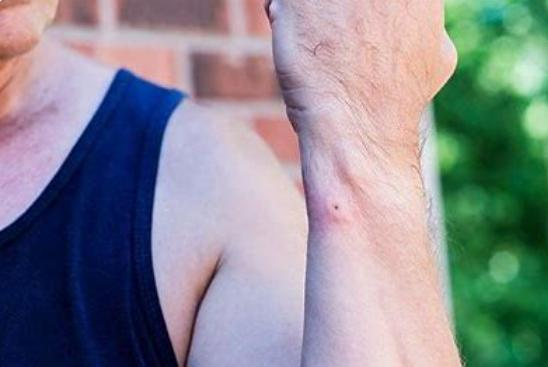Wasp: (319, 178, 354, 240)
